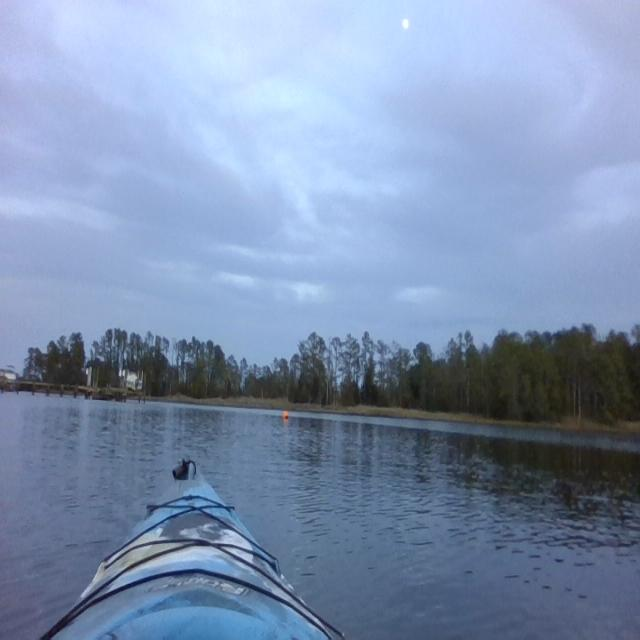Buoy: (283, 406, 291, 422)
